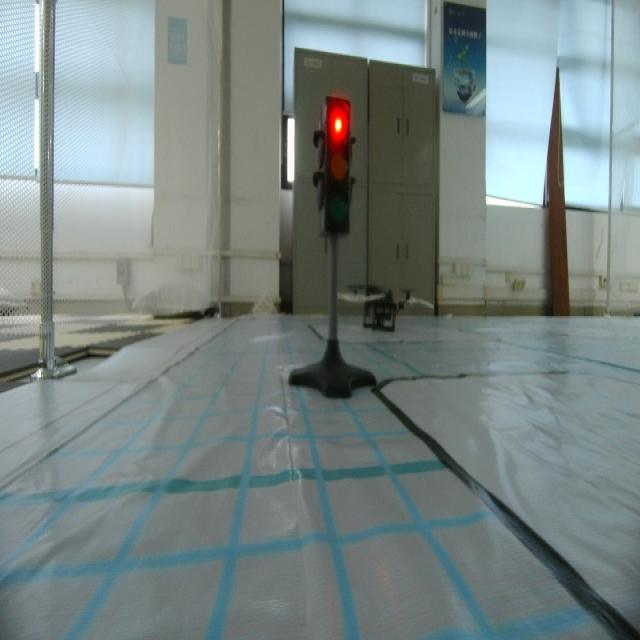red: (314, 90, 358, 258)
